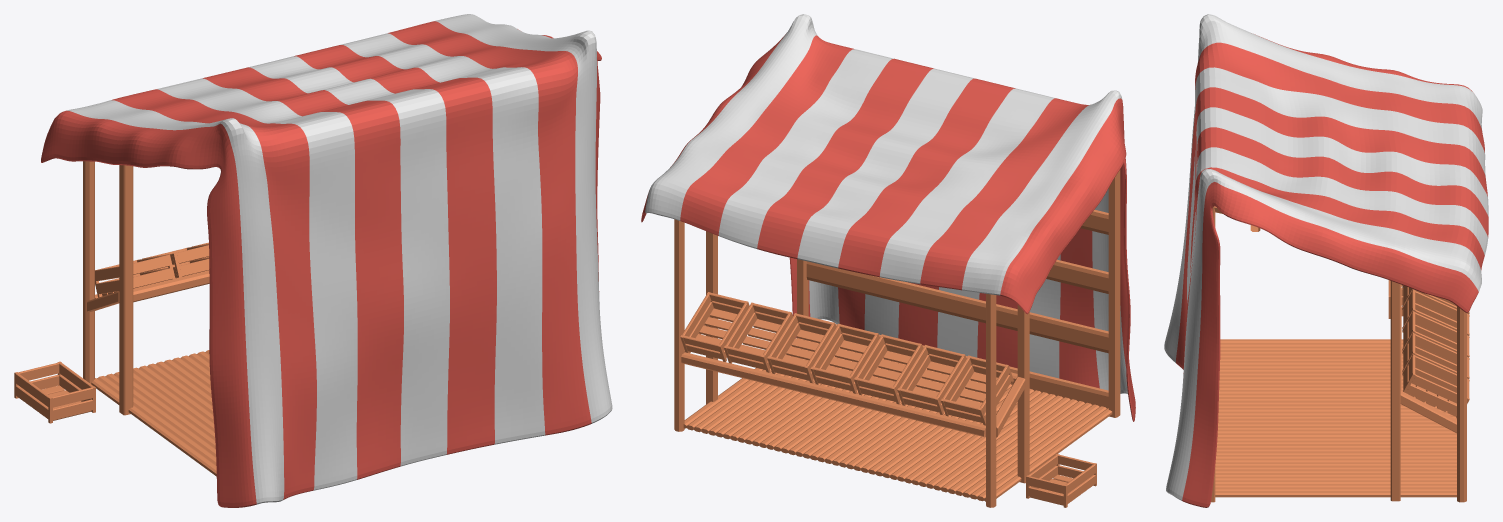
The model's file is GreenGroces.fbx.
3 renders of one model, left to right at view 1: azimuth 30°, elevation 25°; view 2: azimuth 150°, elevation 25°; view 3: azimuth 270°, elevation 25°, orthographic. The views are drawn at different scales.
Parts seen in each view (by area): view 1: Плоскость, Куб, Куб.007, Куб.011, Куб.017, Куб.002, Куб.014; view 2: Плоскость, Куб, Куб.017, Куб.005, Куб.015, Куб.004, Куб.011, Куб.002, Куб.001, Куб.007, Куб.006, Куб.009 (+1 smaller); view 3: Плоскость, Куб, Куб.017, Куб.006, Куб.001, Куб.008.
Boxes of the visible parts, <box> form: Плоскость: <box>41,14,612,507</box>; Куб: <box>91,350,216,476</box>; Куб.007: <box>119,165,133,415</box>; Куб.011: <box>14,361,95,423</box>; Куб.017: <box>95,242,209,297</box>; Куб.002: <box>83,161,94,383</box>; Куб.014: <box>133,270,209,302</box>; Плоскость: <box>641,14,1135,421</box>; Куб: <box>683,338,1112,501</box>; Куб.017: <box>680,292,1013,425</box>; Куб.005: <box>806,209,1108,408</box>; Куб.015: <box>681,352,985,437</box>; Куб.004: <box>1108,169,1120,417</box>; Куб.011: <box>1026,454,1096,507</box>; Куб.002: <box>986,294,996,507</box>; Куб.001: <box>674,219,684,431</box>; Куб.007: <box>1017,305,1029,483</box>; Куб.006: <box>706,231,717,404</box>; Куб.009: <box>996,377,1025,437</box>; Плоскость: <box>1164,14,1488,507</box>; Куб: <box>1215,339,1456,497</box>; Куб.017: <box>1402,285,1469,418</box>; Куб.006: <box>1390,281,1400,501</box>; Куб.001: <box>1457,306,1466,502</box>; Куб.008: <box>1400,391,1456,433</box>.
Size of the model in its own units: 3651 by 2796 by 2411.
